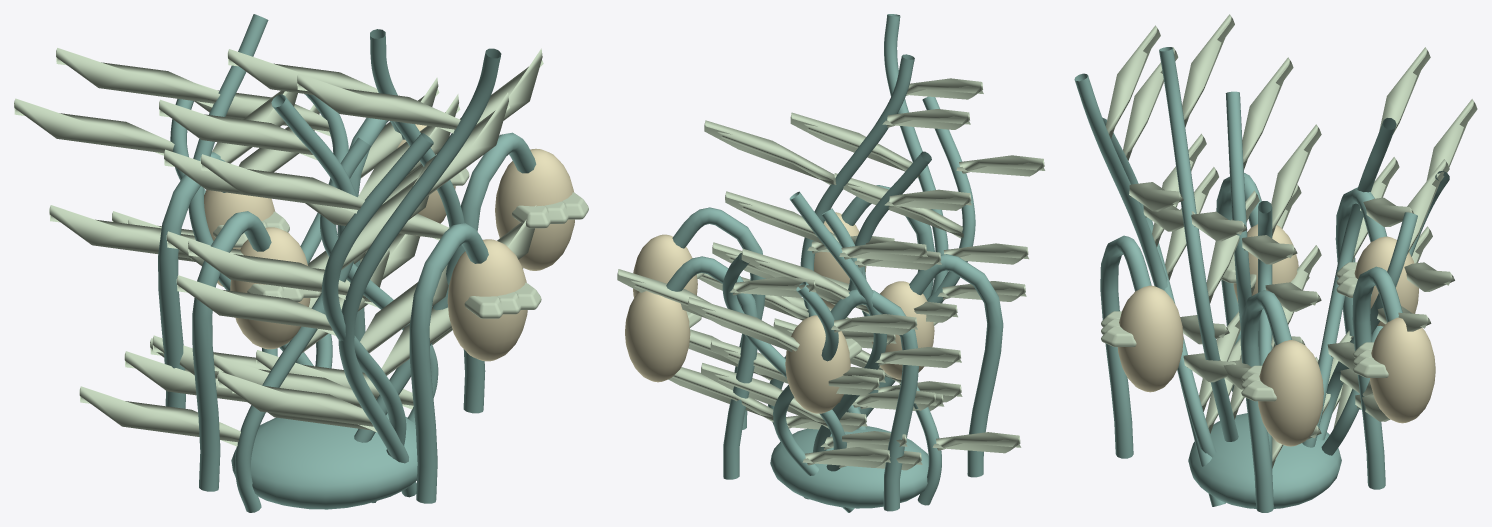
The model's file is bio_aquatic_frond_08_near.glb.
The picture shows the model from 3 angles, left to right: view 1: azimuth 30°, elevation 25°; view 2: azimuth 150°, elevation 25°; view 3: azimuth 270°, elevation 25°; orthographic projection. The views are drawn at different scales.
Visible parts, largest first — view 1: Ruffled aquatic blade.010, Holdfast, Ruffled aquatic blade.035, Ruffled aquatic blade.020, Ruffled aquatic blade.005, Ruffled aquatic blade.025, Flexible stipe.002, Arched fruit stem.002, Pendant spore capsule.002, Ruffled aquatic blade.030, Arched fruit stem.004, Flexible stipe.007 (+17 smaller); view 2: Ruffled aquatic blade.030, Ruffled aquatic blade.005, Ruffled aquatic blade.025, Holdfast, Ruffled aquatic blade.020, Ruffled aquatic blade.010, Ruffled aquatic blade.015, Pendant spore capsule.003, Ruffled aquatic blade.035, Arched fruit stem.004, Pendant spore capsule.001, Arched fruit stem.001 (+15 smaller); view 3: Holdfast, Flexible stipe.005, Pendant spore capsule.002, Pendant spore capsule, Ruffled aquatic blade.010, Pendant spore capsule.003, Ruffled aquatic blade.035, Ruffled aquatic blade.025, Arched fruit stem.002, Arched fruit stem, Arched fruit stem.003, Ruffled aquatic blade.005 (+19 smaller).
Boxes of the visible parts, x1,y1,x2,y2 form: Ruffled aquatic blade.010: (188,73,509,431); Holdfast: (231,413,417,509); Ruffled aquatic blade.035: (176,154,451,432); Ruffled aquatic blade.020: (79,94,460,446); Ruffled aquatic blade.005: (49,48,365,378); Ruffled aquatic blade.025: (213,48,543,407); Flexible stipe.002: (338,48,501,497); Arched fruit stem.002: (409,223,488,503); Pendant spore capsule.002: (447,239,527,361); Ruffled aquatic blade.030: (14,98,419,357); Arched fruit stem.004: (192,211,271,491); Flexible stipe.007: (321,133,433,502); Ruffled aquatic blade.030: (668,297,917,467); Ruffled aquatic blade.005: (710,241,961,450); Ruffled aquatic blade.025: (698,109,970,410); Holdfast: (770,426,928,508); Ruffled aquatic blade.020: (725,189,1021,453); Ruffled aquatic blade.010: (790,78,1028,402); Ruffled aquatic blade.015: (617,269,922,470); Pendant spore capsule.003: (625,291,690,382); Ruffled aquatic blade.035: (781,155,1045,410); Arched fruit stem.004: (909,254,1003,477); Pendant spore capsule.001: (785,315,850,413); Arched fruit stem.001: (830,289,918,511); Holdfast: (1188,413,1341,508); Flexible stipe.005: (1159,47,1238,441); Pendant spore capsule.002: (1117,285,1183,392); Pendant spore capsule: (1258,340,1323,446); Ruffled aquatic blade.010: (1106,25,1240,411); Pendant spore capsule.003: (1370,317,1435,423); Ruffled aquatic blade.035: (1123,47,1241,433); Ruffled aquatic blade.025: (1182,14,1259,419); Arched fruit stem.002: (1100,235,1151,458); Arched fruit stem: (1240,290,1291,512); Arched fruit stem.003: (1352,266,1402,489); Ruffled aquatic blade.005: (1321,47,1430,418).
Size of the model in its own units: 1.89 by 1.89 by 1.57.
